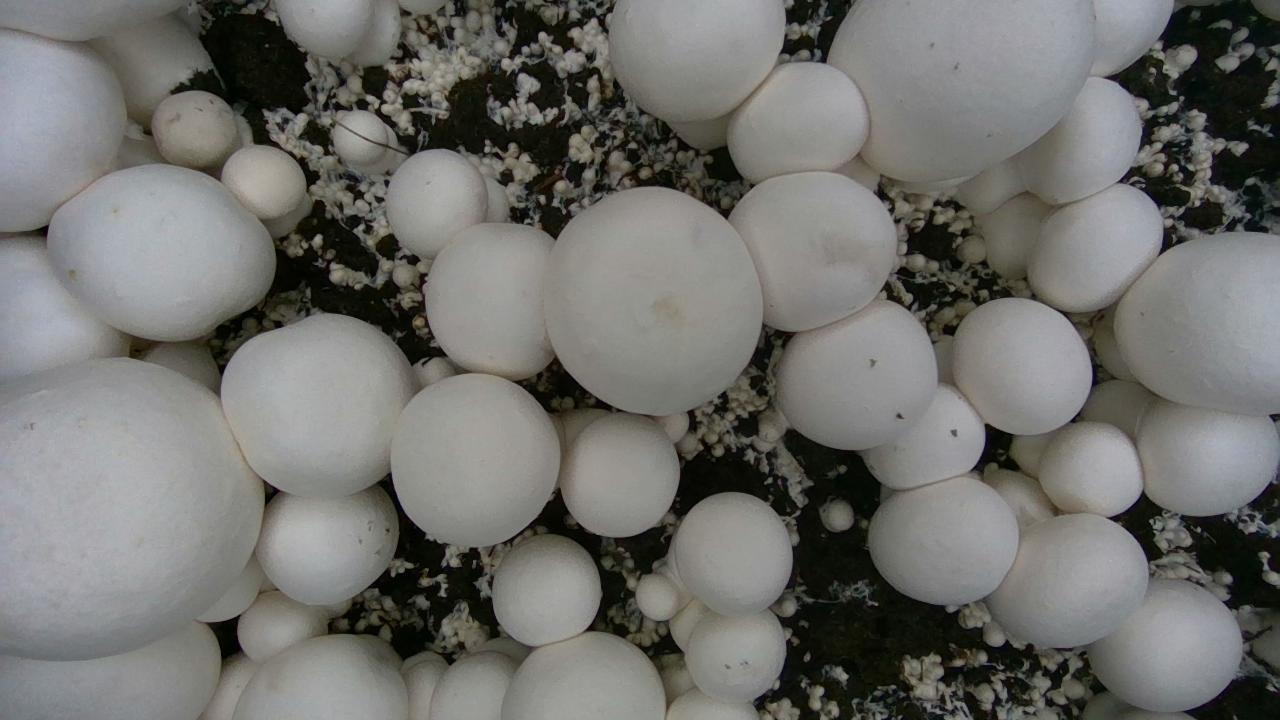WB: (0, 358, 263, 659), (544, 187, 762, 414), (827, 0, 1094, 181), (47, 165, 275, 341), (221, 314, 417, 497), (1114, 232, 1279, 414), (390, 373, 560, 546), (729, 171, 896, 331), (777, 299, 937, 449), (987, 513, 1148, 647), (0, 622, 220, 719), (609, 0, 785, 121), (1087, 579, 1241, 711), (425, 223, 554, 380), (869, 475, 1018, 605), (0, 235, 129, 383), (952, 298, 1091, 434), (1027, 184, 1162, 311), (1135, 397, 1279, 515), (727, 62, 868, 182), (256, 485, 398, 604), (1018, 77, 1141, 203), (559, 413, 679, 536), (673, 492, 792, 616), (233, 635, 408, 719), (501, 631, 665, 719), (386, 149, 508, 258), (859, 383, 984, 489), (492, 534, 601, 646), (1038, 421, 1143, 517), (685, 609, 785, 702), (978, 192, 1054, 279), (151, 91, 236, 168), (220, 145, 306, 220), (237, 590, 327, 661), (1090, 0, 1173, 76), (429, 651, 517, 719), (275, 0, 372, 58), (332, 110, 405, 174)
